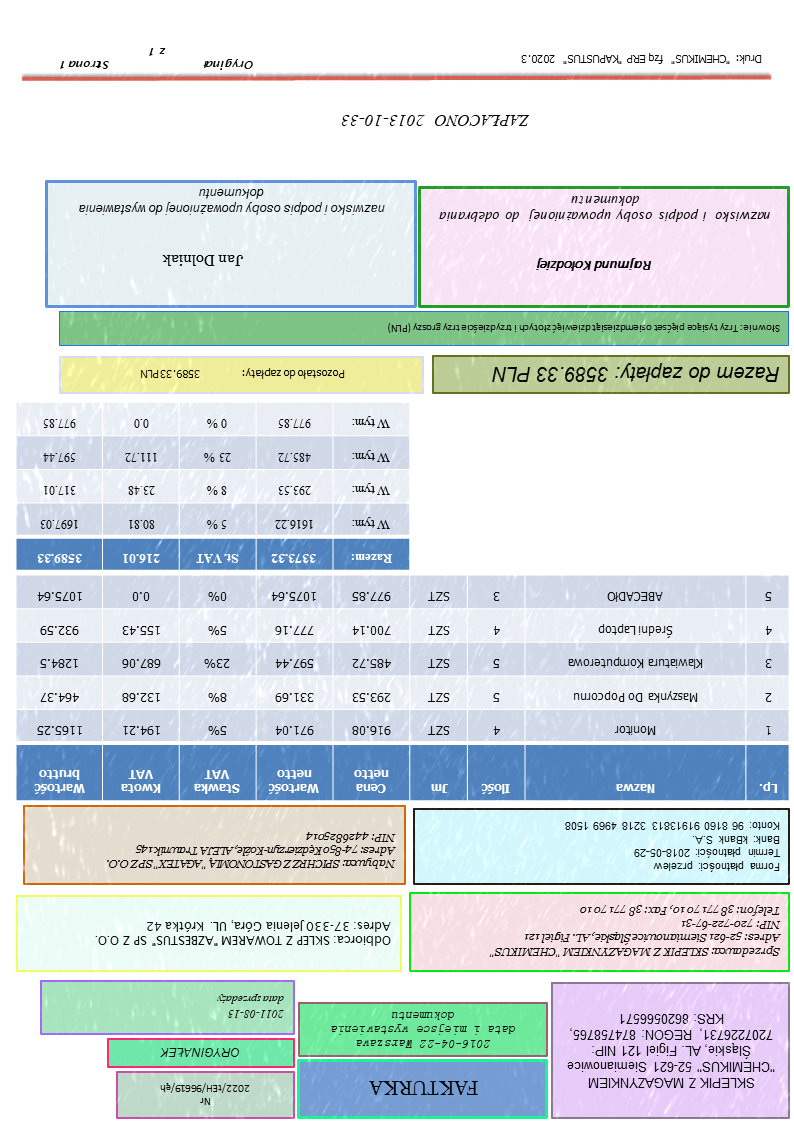Table: (15, 574, 791, 802), (15, 401, 411, 573)
TextBox: (485, 902, 785, 961), (564, 1010, 777, 1092), (104, 829, 398, 873), (564, 819, 784, 875), (438, 193, 773, 224), (78, 186, 387, 219), (93, 918, 394, 949), (328, 1008, 518, 1051), (489, 363, 783, 388), (386, 321, 784, 336), (57, 46, 256, 72), (520, 52, 764, 68), (341, 111, 530, 130), (140, 367, 347, 382), (158, 1080, 252, 1108), (367, 1077, 483, 1099), (535, 256, 655, 274), (216, 992, 287, 1022), (159, 250, 246, 270), (158, 1045, 243, 1062)
